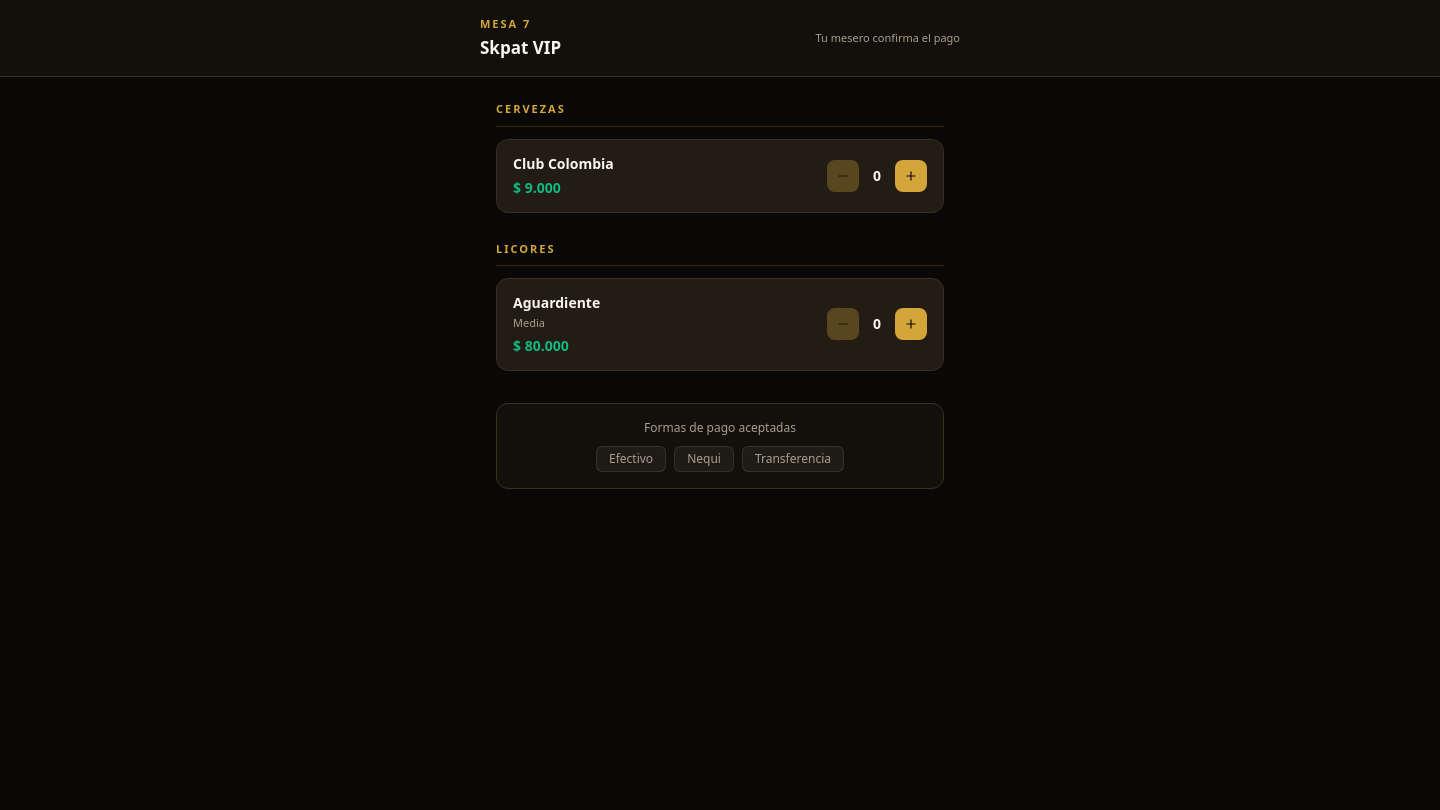
Test case: CartaPage › arma un pedido con cantidades y lo envía a la mesa
Click the button named "Agregar Club Colombia" at x=911, y=176, box [895, 160, 927, 192]
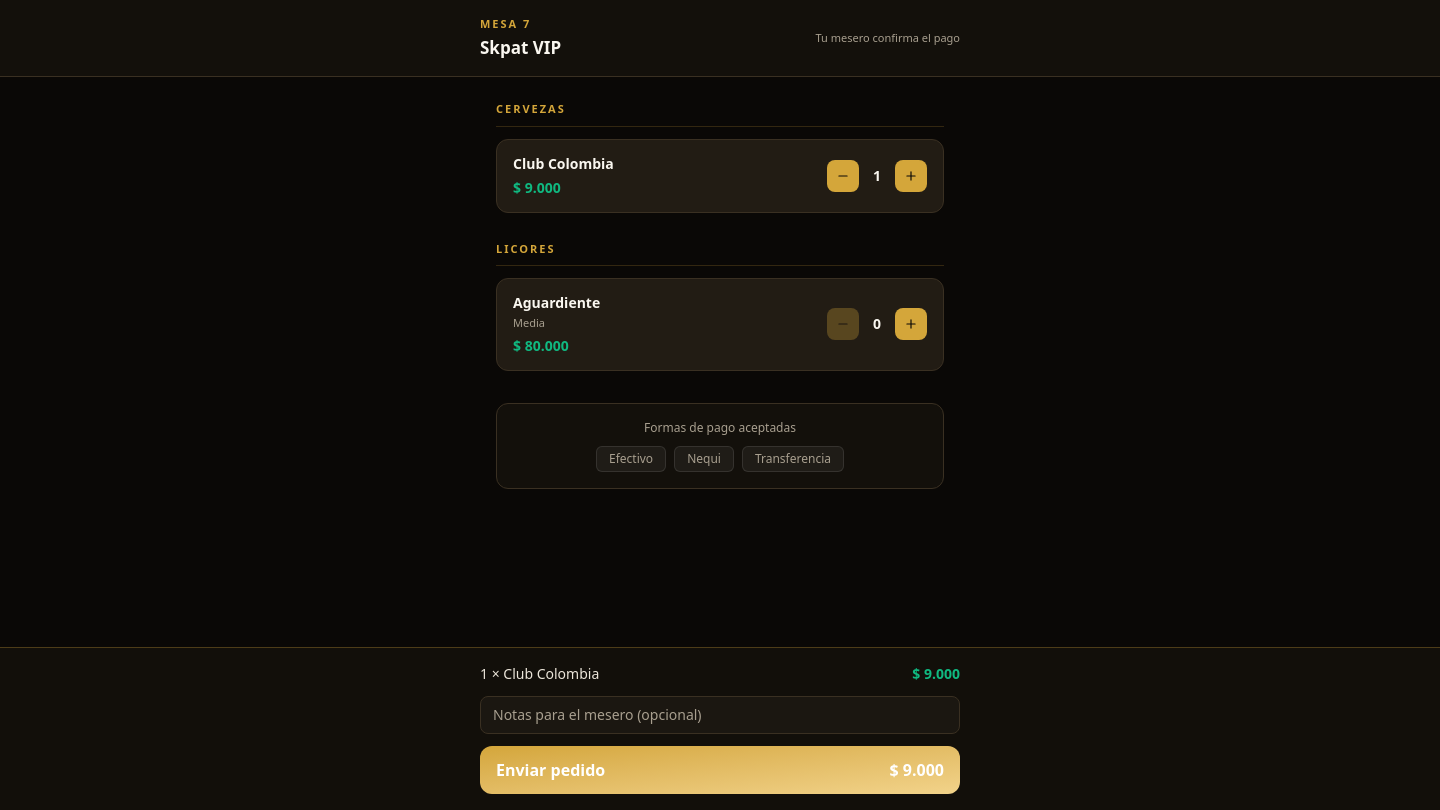
Click the button named "Agregar Club Colombia" at x=911, y=176, box [895, 160, 927, 192]
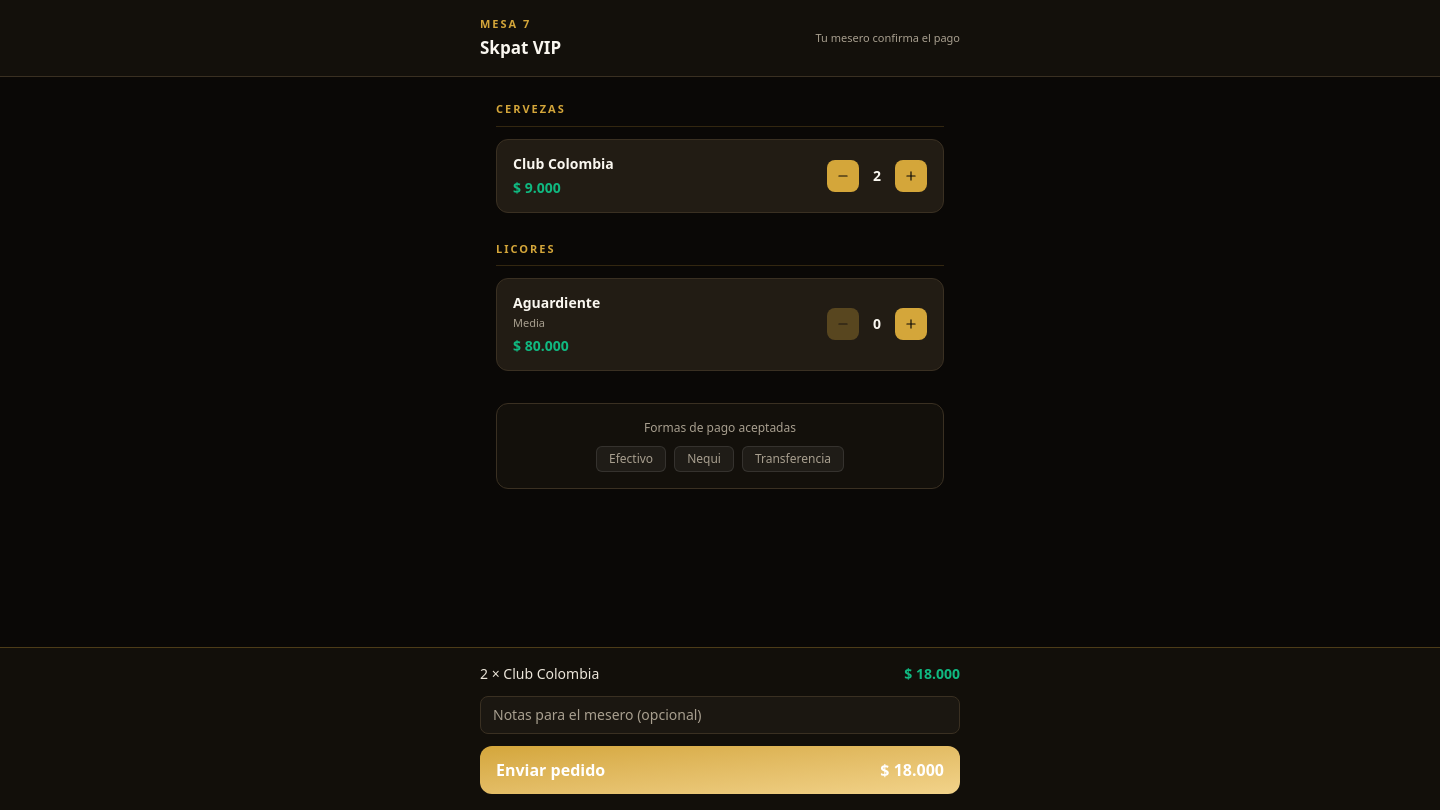
Click the button named "Agregar Aguardiente" at x=911, y=324, box [895, 308, 927, 340]
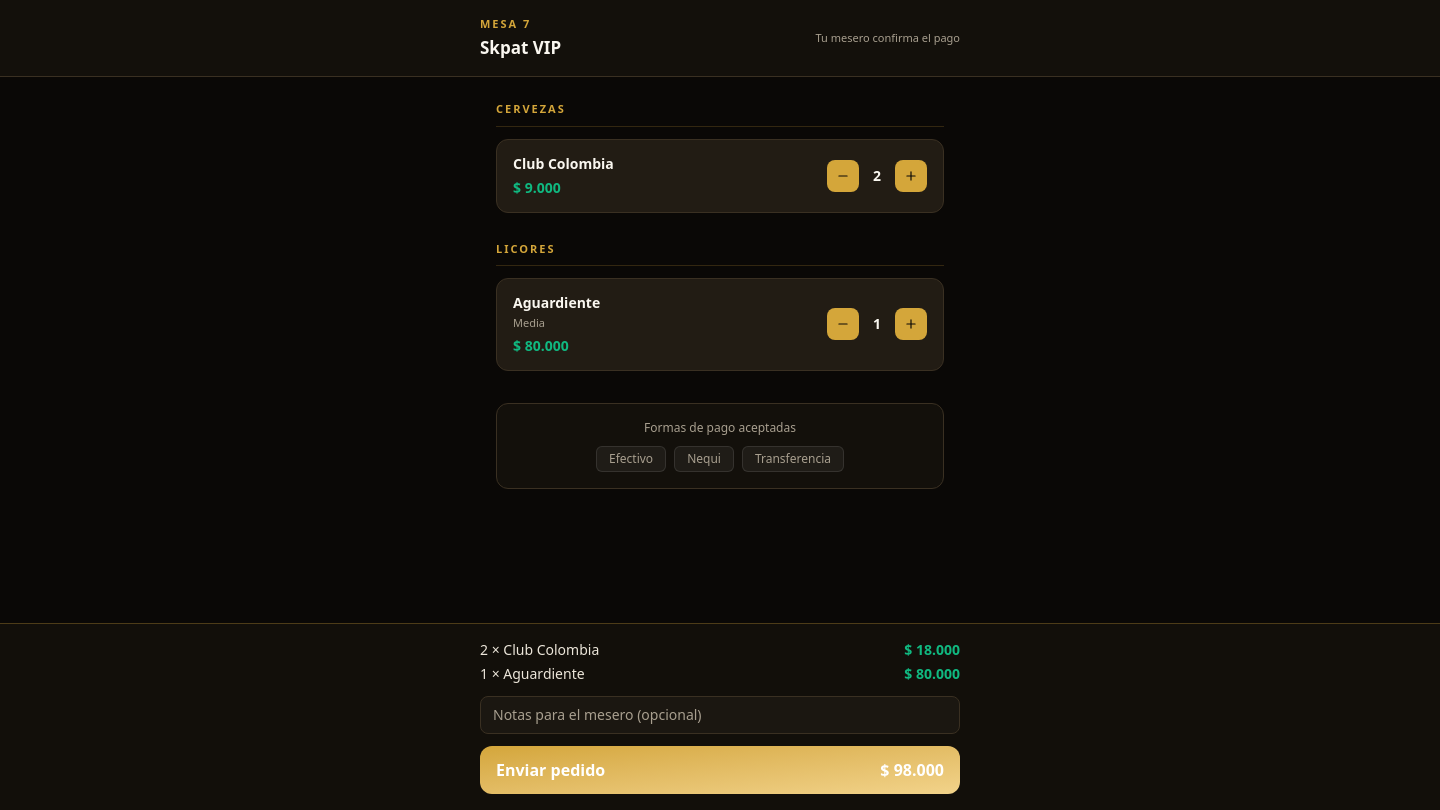
Click the button named "Quitar Aguardiente" at x=843, y=324, box [827, 308, 859, 340]
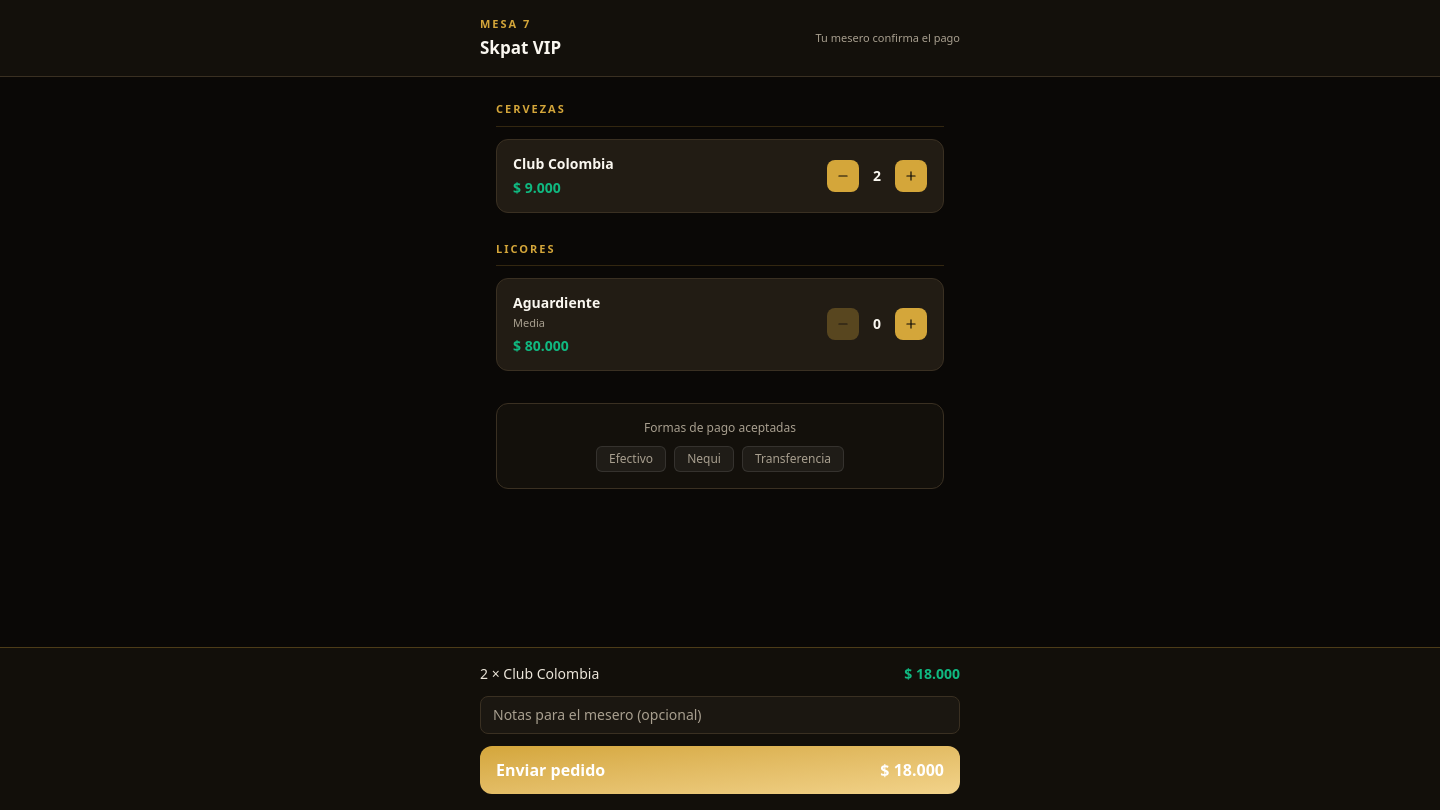
Click the button named "Agregar Aguardiente" at x=911, y=324, box [895, 308, 927, 340]
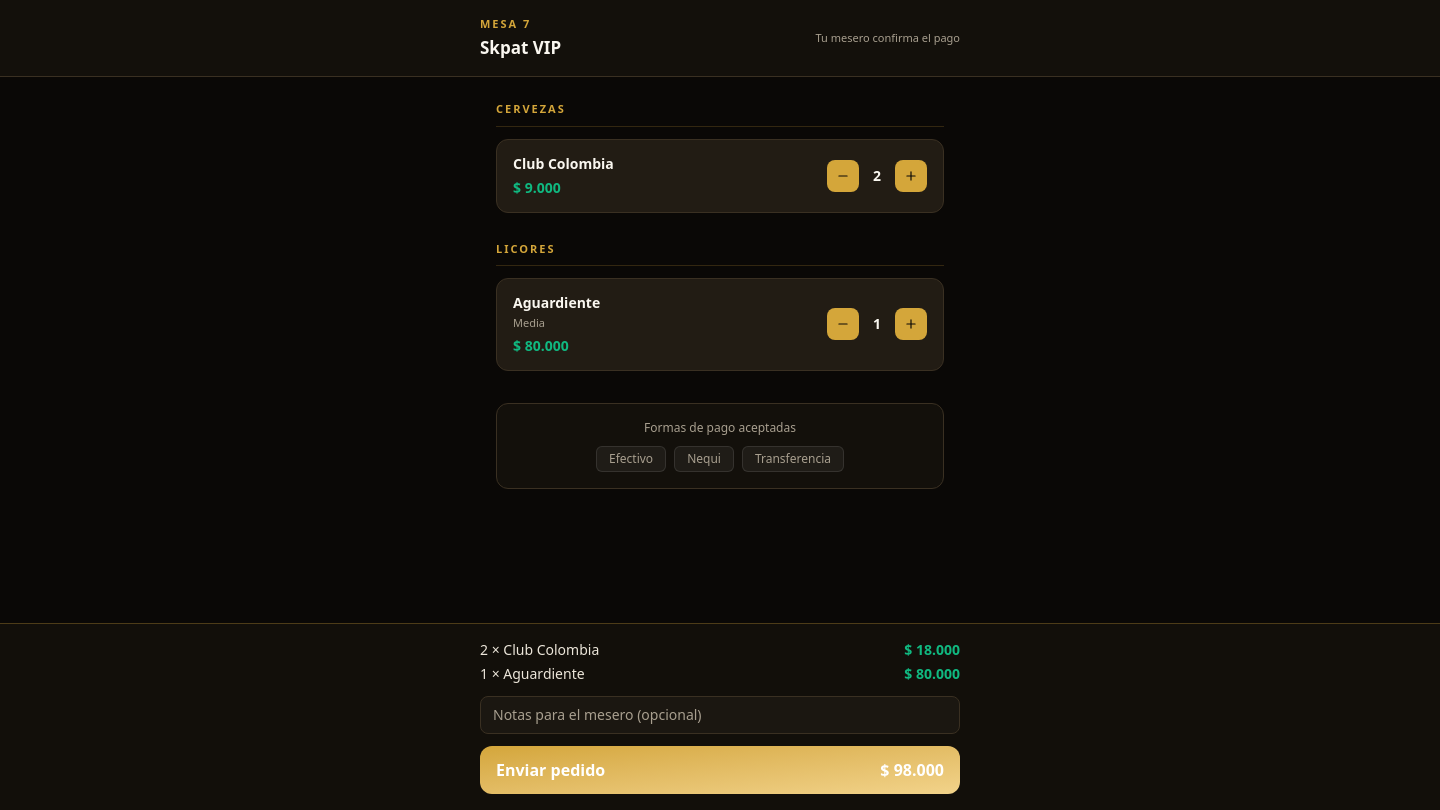
Type " con hielo " into the field labelled "Notas para el mesero" at x=720, y=715, box [480, 696, 960, 734]
Click the button "Enviar pedido $ 98.000" at x=551, y=770, box [480, 746, 960, 794]
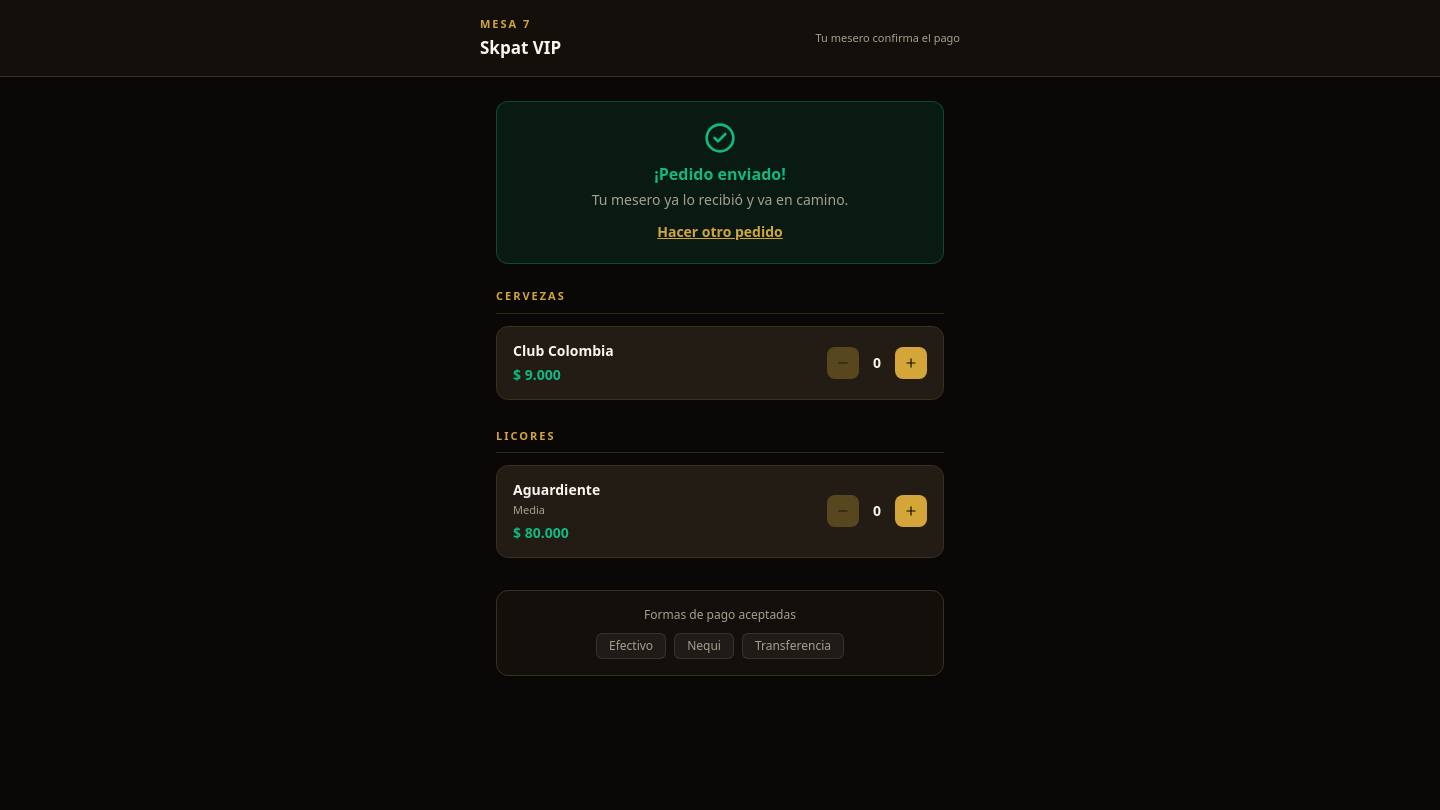
Check: the message "¡Pedido enviado! Tu mesero ya lo recibió y va en camino. Hacer otro pedido" is shown, box [496, 101, 944, 264]
Check: the element with test id "order-cart" is gone
